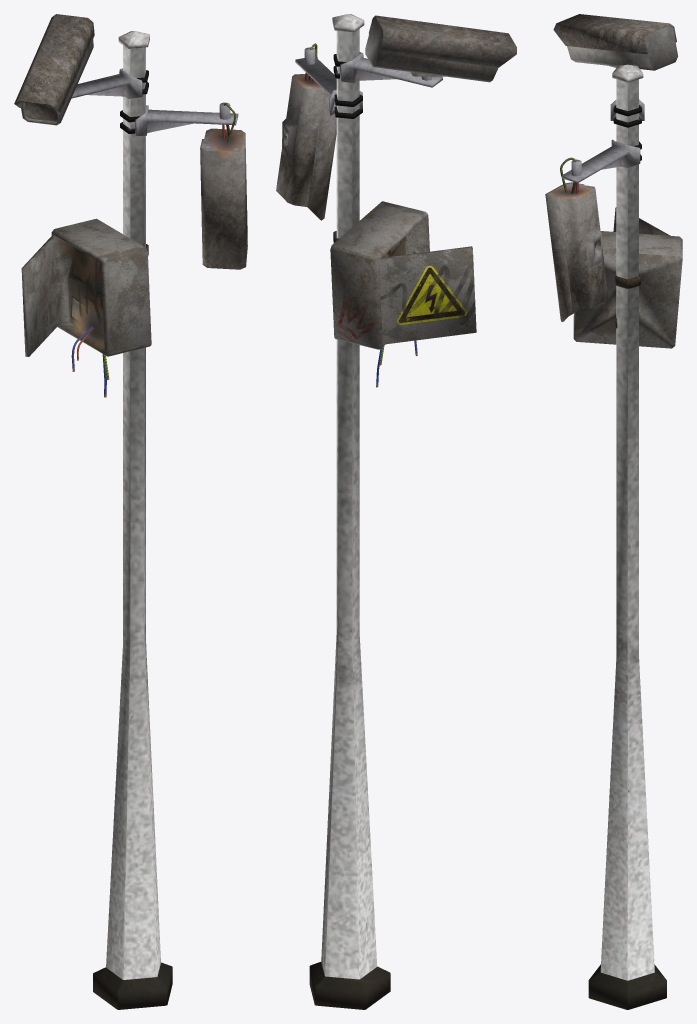
Rendered from post_short.glb.
The picture shows the model from 3 angles, left to right: view 1: azimuth 30°, elevation 25°; view 2: azimuth 150°, elevation 25°; view 3: azimuth 270°, elevation 25°; orthographic projection. The views are drawn at different scales.
Visible parts, largest first — view 1: post_short; view 2: post_short; view 3: post_short.
Part boxes in pixels (bbox=[...]): post_short: bbox=[14, 14, 247, 1009]; post_short: bbox=[276, 14, 516, 1009]; post_short: bbox=[545, 14, 682, 1009].
Bounding box in the file's own units: 0.6208 × 2.48 × 0.3272.
Materials: 5 (5 with a texture image).
